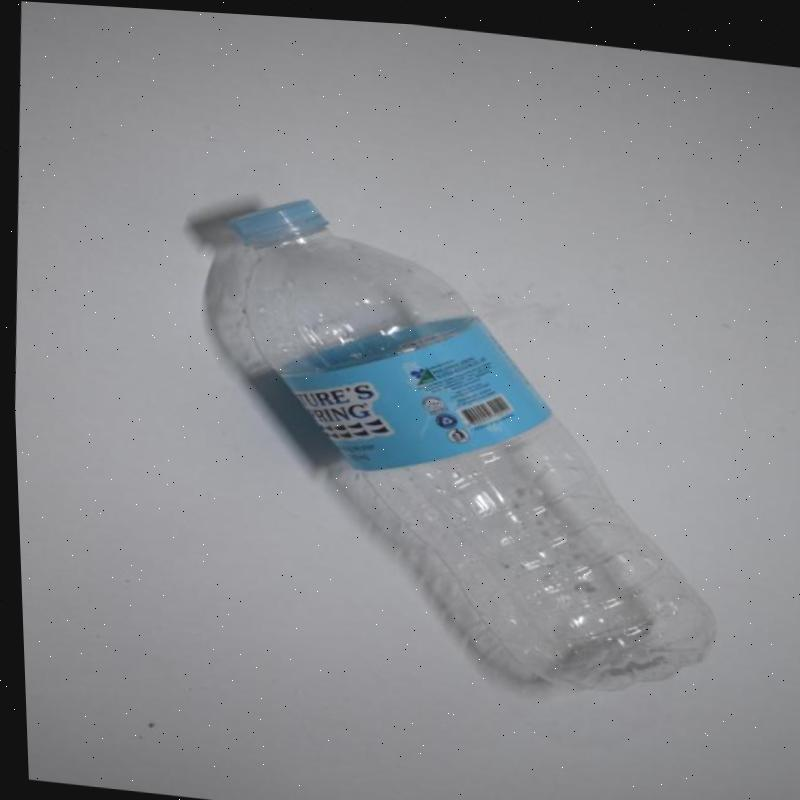botella: (204, 186, 731, 700)
